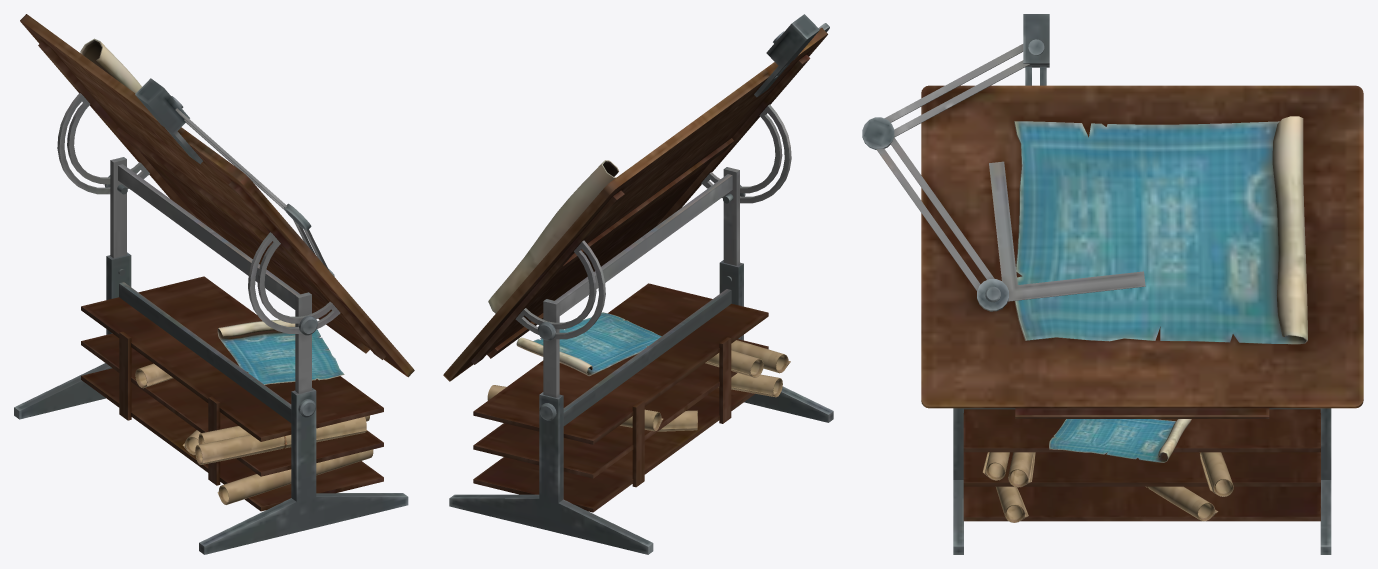
Rendered from SM_DraftingDesk_1ab696.glb.
The picture shows the model from 3 angles, left to right: view 1: azimuth 30°, elevation 25°; view 2: azimuth 150°, elevation 25°; view 3: azimuth 270°, elevation 25°; orthographic projection. The views are drawn at different scales.
Size of the model in its own units: 1.08 by 1.91 by 1.98.
Materials: 2 (2 with a texture image).
